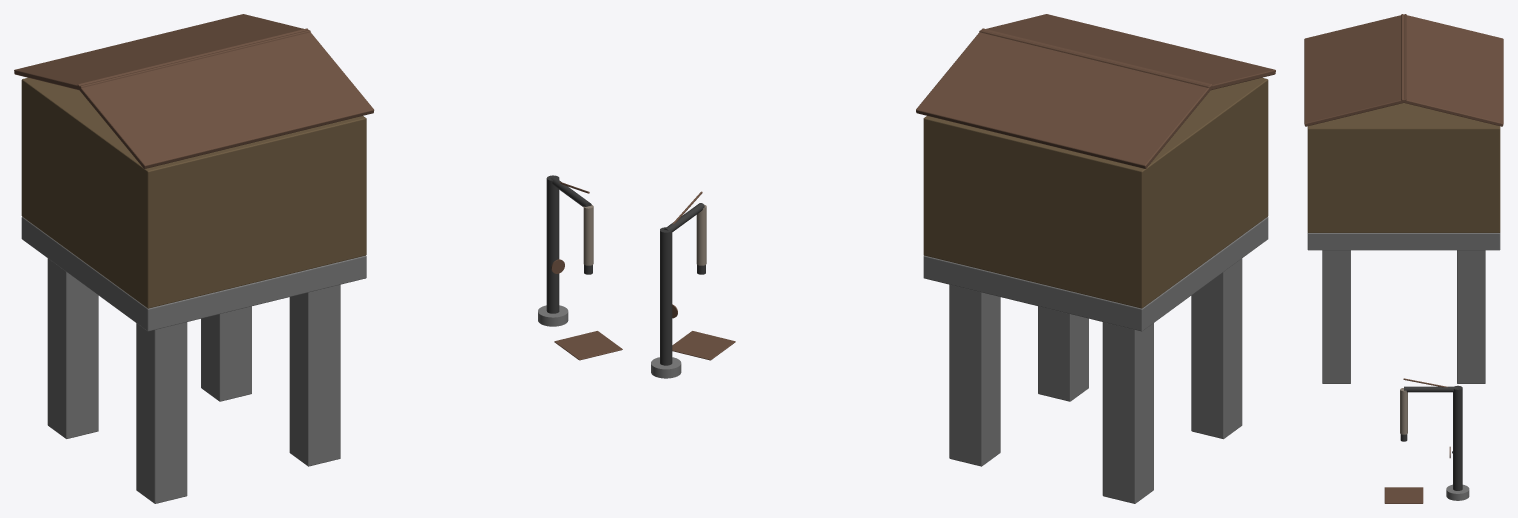
File: Coaling_Tower_Water_Crane.fbx
3 views of the same model, side by side, from view 1: azimuth 30°, elevation 25°; view 2: azimuth 150°, elevation 25°; view 3: azimuth 270°, elevation 25° (orthographic). The views are drawn at different scales.
Visible parts, largest first — view 1: Tower_Bunker_Walls, Tower_Roof_R, Tower_Pillar_4, Tower_Pillar_2, Tower_Pillar_3, Tower_Bunker_Base, Tower_Roof_L, Tower_Pillar_1, Crane_Mast, Drain_Grate; view 2: Tower_Bunker_Walls, Tower_Roof_L, Tower_Pillar_3, Tower_Pillar_1, Tower_Pillar_4, Tower_Bunker_Base, Tower_Roof_R, Tower_Pillar_2, Crane_Mast, Drain_Grate; view 3: Tower_Bunker_Walls, Tower_Roof_L, Tower_Roof_R, Tower_Pillar_1, Tower_Pillar_2, Tower_Bunker_Base, Crane_Mast, Drain_Grate, Canvas_Hose, Arm_Pipe, Crane_Base.
Part boxes in pixels (left/top/right/bottom): Tower_Bunker_Walls: left=21, top=78, right=366, bottom=308; Tower_Roof_R: left=77, top=28, right=374, bottom=168; Tower_Pillar_4: left=136, top=322, right=187, bottom=503; Tower_Pillar_2: left=289, top=284, right=340, bottom=466; Tower_Pillar_3: left=47, top=258, right=98, bottom=438; Tower_Bunker_Base: left=21, top=217, right=366, bottom=331; Tower_Roof_L: left=14, top=14, right=310, bottom=90; Tower_Pillar_1: left=201, top=306, right=251, bottom=401; Crane_Mast: left=546, top=175, right=559, bottom=313; Drain_Grate: left=554, top=331, right=622, bottom=360; Tower_Bunker_Walls: left=923, top=77, right=1268, bottom=308; Tower_Roof_L: left=916, top=28, right=1212, bottom=168; Tower_Pillar_3: left=1102, top=322, right=1153, bottom=503; Tower_Pillar_1: left=949, top=284, right=1000, bottom=466; Tower_Pillar_4: left=1191, top=258, right=1242, bottom=439; Tower_Bunker_Base: left=923, top=217, right=1268, bottom=331; Tower_Roof_R: left=979, top=14, right=1275, bottom=90; Tower_Pillar_2: left=1038, top=306, right=1088, bottom=401; Crane_Mast: left=660, top=227, right=672, bottom=365; Drain_Grate: left=672, top=331, right=735, bottom=360; Tower_Bunker_Walls: left=1307, top=103, right=1500, bottom=232; Tower_Roof_L: left=1401, top=14, right=1503, bottom=126; Tower_Roof_R: left=1304, top=14, right=1406, bottom=126; Tower_Pillar_1: left=1457, top=250, right=1485, bottom=383; Tower_Pillar_2: left=1322, top=250, right=1350, bottom=383; Tower_Bunker_Base: left=1307, top=233, right=1500, bottom=250; Crane_Mast: left=1453, top=385, right=1462, bottom=490; Drain_Grate: left=1384, top=487, right=1423, bottom=503; Canvas_Hose: left=1400, top=388, right=1407, bottom=434; Arm_Pipe: left=1404, top=386, right=1457, bottom=392; Crane_Base: left=1446, top=484, right=1469, bottom=500.
Bounding box in the file's own units: 24.25 × 10.34 × 16.8.
